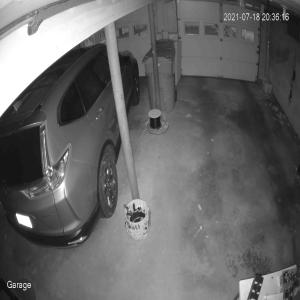garbage bin: (142, 38, 176, 115)
honda crv: (0, 42, 141, 250)
tool bucket: (123, 198, 151, 240)
